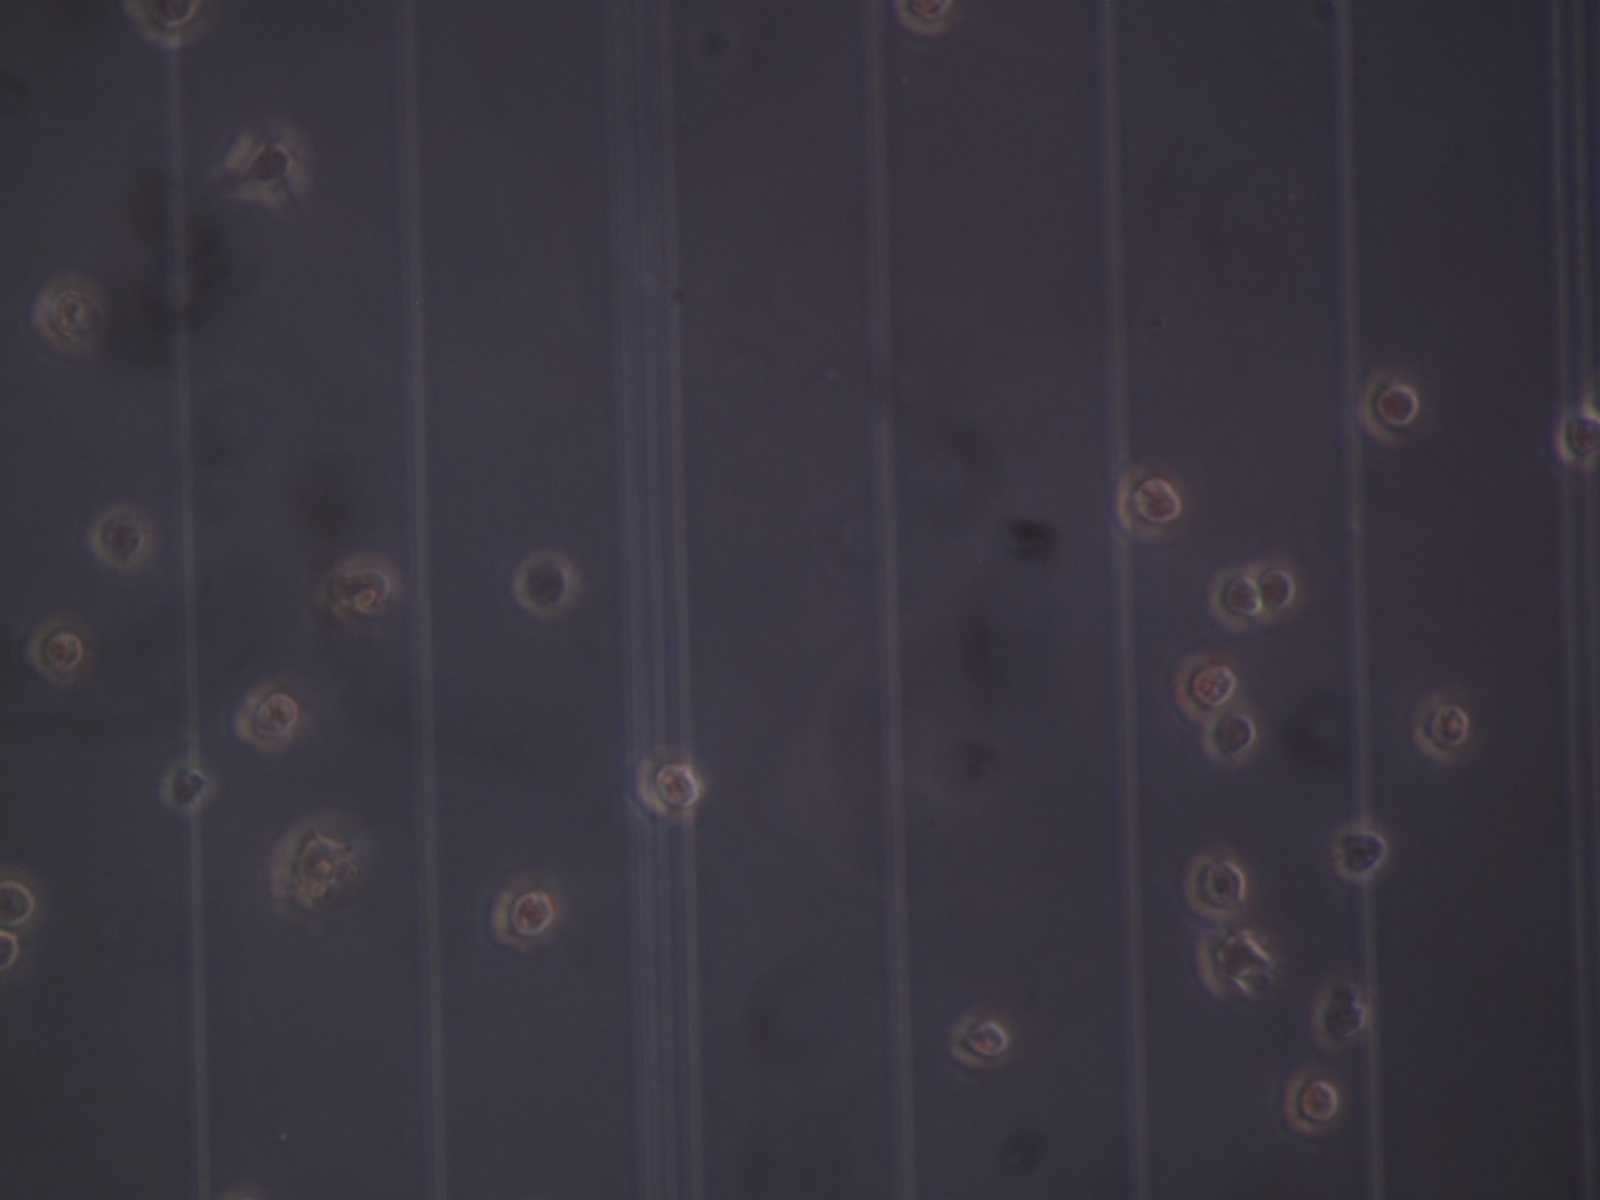hemo: (232, 132, 312, 203), (493, 874, 567, 949), (271, 826, 354, 887), (1115, 463, 1182, 538), (31, 274, 93, 352), (1359, 369, 1419, 447), (231, 686, 299, 753), (125, 1, 217, 49), (1173, 655, 1238, 722), (317, 563, 399, 616), (636, 758, 703, 822), (1184, 855, 1249, 919), (26, 619, 86, 688), (517, 550, 574, 620), (1412, 691, 1468, 763), (94, 505, 155, 568), (1328, 823, 1391, 880), (1286, 1071, 1340, 1134), (1209, 568, 1262, 632), (950, 1013, 1008, 1070), (1204, 711, 1259, 763), (1556, 410, 1600, 471), (163, 769, 209, 811), (896, 1, 952, 34), (1, 879, 37, 929), (1260, 563, 1295, 608), (1, 929, 20, 973)
